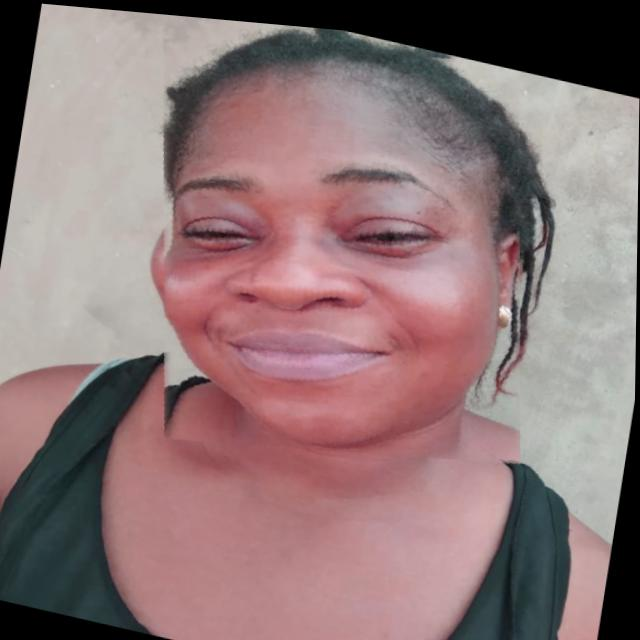happy: (119, 9, 565, 497)
